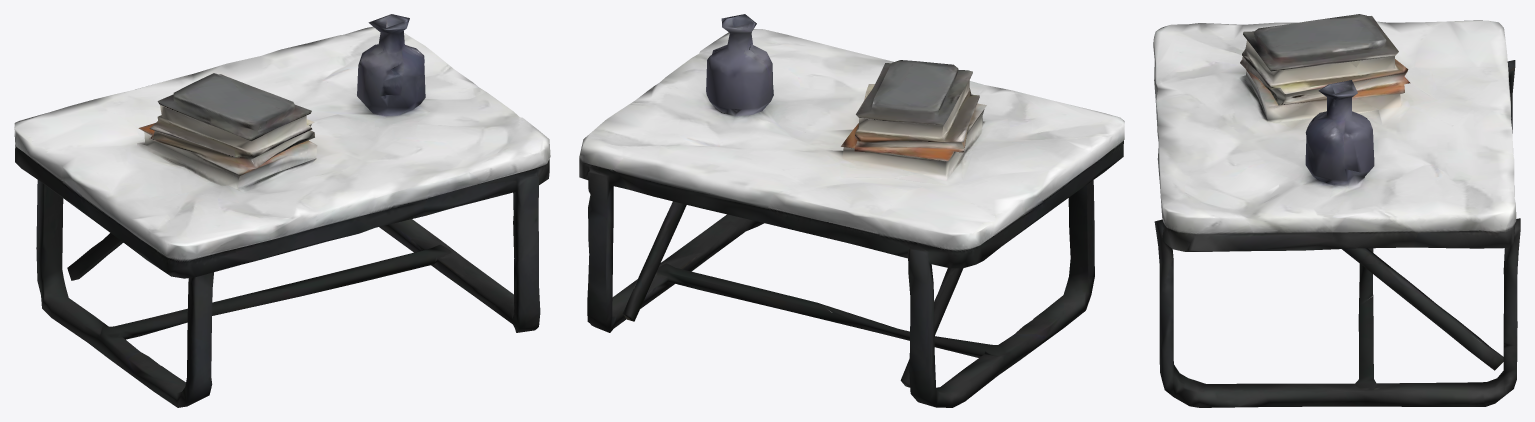
The model's file is marble-table.glb.
3 views of the same model, side by side, from view 1: azimuth 30°, elevation 25°; view 2: azimuth 150°, elevation 25°; view 3: azimuth 270°, elevation 25° (orthographic). The views are drawn at different scales.
Parts seen in each view (by area): view 1: tripo_node_47dd670a-ed6d-4604-a18e-87bbfde7811a; view 2: tripo_node_47dd670a-ed6d-4604-a18e-87bbfde7811a; view 3: tripo_node_47dd670a-ed6d-4604-a18e-87bbfde7811a.
Boxes of the visible parts, left/top/right/bottom form: tripo_node_47dd670a-ed6d-4604-a18e-87bbfde7811a: left=14, top=14, right=550, bottom=407; tripo_node_47dd670a-ed6d-4604-a18e-87bbfde7811a: left=579, top=14, right=1124, bottom=407; tripo_node_47dd670a-ed6d-4604-a18e-87bbfde7811a: left=1153, top=14, right=1520, bottom=407.
Bounding box in the file's own units: 1 × 0.6558 × 0.7747.
Materials: 1 (1 with a texture image).
